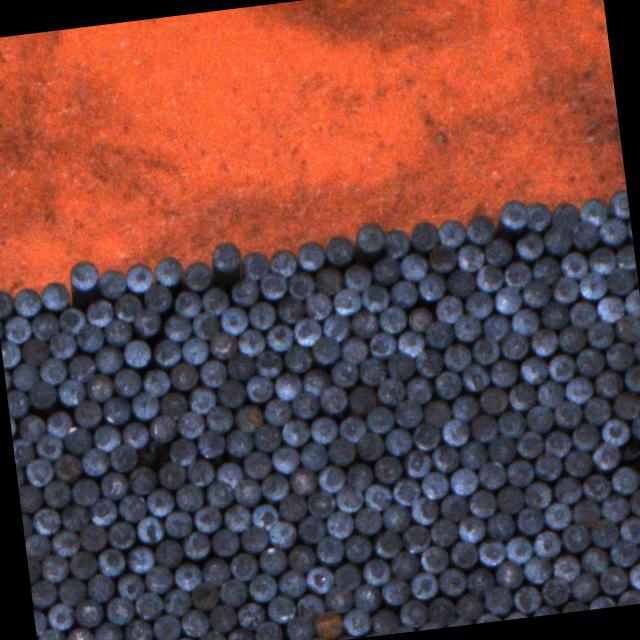tool: (463, 212, 496, 245), (541, 222, 573, 255), (407, 218, 439, 251), (324, 233, 356, 266), (498, 197, 530, 230), (210, 240, 242, 273), (238, 249, 271, 281), (548, 199, 580, 232), (12, 284, 44, 316), (152, 254, 184, 286), (68, 258, 100, 290), (40, 280, 72, 312), (530, 252, 562, 284), (512, 228, 544, 260), (354, 220, 386, 252), (96, 266, 127, 298), (568, 570, 600, 601), (189, 578, 220, 610), (492, 284, 524, 315), (183, 260, 214, 292), (428, 242, 459, 274), (113, 290, 144, 322), (548, 553, 580, 584), (436, 215, 466, 248), (603, 266, 634, 297), (317, 383, 348, 414), (392, 397, 423, 428), (587, 516, 618, 547), (27, 378, 58, 409), (505, 380, 536, 411), (455, 242, 486, 273), (486, 432, 517, 463), (585, 243, 616, 274), (579, 395, 610, 426), (296, 238, 326, 270), (341, 262, 371, 294), (124, 260, 154, 292), (188, 308, 220, 338), (598, 564, 630, 594), (152, 538, 182, 570), (388, 548, 418, 580), (609, 464, 639, 496), (502, 258, 534, 288), (508, 306, 540, 336), (438, 566, 468, 598), (577, 268, 607, 300), (444, 268, 476, 298), (380, 226, 410, 258), (434, 292, 464, 324), (130, 306, 162, 336), (101, 316, 131, 348), (537, 300, 569, 330), (230, 276, 260, 308), (127, 465, 157, 496), (308, 414, 339, 444), (108, 440, 138, 471), (292, 315, 322, 346), (331, 284, 362, 314), (315, 533, 345, 564), (354, 431, 384, 462), (172, 559, 202, 590), (400, 448, 430, 479), (558, 521, 588, 552), (78, 447, 108, 478), (34, 430, 64, 461), (52, 452, 82, 483), (310, 333, 340, 364), (400, 523, 430, 554), (70, 475, 100, 506), (76, 521, 106, 552), (500, 328, 530, 359), (602, 340, 633, 370), (379, 502, 409, 533), (208, 329, 238, 360), (570, 422, 601, 452), (525, 403, 555, 434), (422, 318, 452, 349), (156, 460, 187, 490), (348, 308, 378, 339), (311, 608, 342, 638), (58, 501, 88, 532), (111, 367, 141, 398), (40, 479, 71, 509), (398, 252, 429, 282), (399, 597, 429, 628), (74, 322, 104, 353), (65, 352, 96, 382), (93, 344, 123, 375), (427, 594, 457, 625), (115, 492, 146, 522), (593, 370, 624, 400), (242, 448, 272, 479), (356, 354, 386, 385), (574, 345, 604, 376), (459, 361, 489, 392), (520, 277, 550, 308), (281, 342, 312, 372), (578, 196, 608, 227), (245, 300, 275, 331), (511, 582, 542, 612), (130, 390, 160, 421), (198, 555, 228, 586), (486, 512, 517, 542), (478, 384, 508, 415), (84, 371, 114, 402), (18, 412, 48, 443), (518, 353, 548, 384), (384, 350, 414, 381), (414, 345, 444, 376), (580, 471, 610, 502), (570, 496, 601, 526), (346, 383, 376, 414), (370, 255, 400, 286), (122, 337, 152, 367), (382, 426, 412, 456), (181, 530, 211, 560), (256, 544, 286, 574), (248, 572, 278, 602), (72, 399, 102, 429), (590, 440, 620, 470), (146, 486, 176, 516), (377, 303, 407, 333), (36, 356, 66, 386), (217, 304, 247, 334), (446, 466, 476, 496), (162, 508, 192, 538), (47, 329, 77, 359), (466, 488, 496, 518), (178, 606, 208, 636), (270, 444, 300, 474), (338, 334, 368, 364), (228, 550, 258, 580), (495, 558, 525, 588), (484, 584, 514, 614), (298, 442, 328, 472), (408, 571, 438, 601), (428, 518, 458, 548), (456, 514, 486, 544), (428, 442, 458, 472), (324, 508, 354, 538), (304, 488, 334, 518), (526, 326, 556, 356), (495, 484, 525, 514), (168, 360, 198, 390), (417, 270, 447, 300), (419, 544, 449, 574), (100, 395, 130, 425), (266, 594, 296, 624), (532, 528, 562, 558), (362, 482, 392, 512), (473, 262, 503, 292), (358, 282, 388, 312), (141, 563, 171, 593), (143, 282, 173, 312), (556, 322, 586, 352), (303, 564, 333, 594), (206, 602, 236, 632), (277, 569, 307, 599), (175, 480, 205, 510), (482, 238, 512, 268), (196, 428, 226, 458), (84, 298, 114, 328), (50, 528, 80, 558), (326, 438, 356, 468), (160, 587, 190, 617), (534, 379, 564, 409), (316, 464, 346, 494), (106, 520, 136, 550), (264, 322, 294, 352), (69, 548, 99, 578), (278, 490, 308, 520), (3, 314, 33, 344), (542, 498, 572, 528), (352, 582, 382, 612), (412, 422, 442, 452), (442, 342, 472, 372), (522, 555, 552, 585), (174, 408, 204, 438), (8, 362, 38, 392), (496, 408, 526, 438), (92, 422, 122, 452), (437, 492, 467, 522), (28, 311, 58, 341), (467, 412, 497, 442), (288, 390, 318, 420), (286, 542, 316, 572), (272, 372, 302, 402), (563, 375, 593, 405), (532, 451, 562, 481), (56, 306, 86, 336), (464, 288, 494, 318), (361, 556, 391, 586), (32, 506, 62, 536), (266, 520, 296, 550), (362, 403, 392, 433), (20, 336, 50, 366), (558, 248, 588, 278), (238, 524, 268, 554), (598, 492, 628, 522), (523, 480, 553, 510), (504, 456, 534, 486), (274, 292, 304, 322), (62, 424, 92, 454), (314, 264, 344, 294), (215, 377, 245, 407), (550, 398, 580, 428), (372, 529, 402, 559), (24, 456, 54, 486), (452, 313, 482, 343), (388, 279, 418, 309), (549, 274, 579, 304), (550, 474, 580, 504), (210, 526, 240, 556), (457, 438, 487, 468), (456, 590, 486, 620), (562, 447, 592, 477), (390, 477, 420, 507), (296, 514, 326, 544), (301, 366, 331, 396), (408, 496, 438, 526), (168, 437, 198, 467), (594, 294, 624, 324), (504, 534, 534, 564), (466, 565, 496, 595), (43, 409, 73, 439), (354, 506, 384, 536), (226, 350, 256, 380), (568, 299, 598, 329), (578, 546, 608, 576), (198, 358, 228, 388), (286, 270, 316, 300), (596, 215, 626, 245), (487, 356, 517, 386), (186, 456, 216, 486), (541, 426, 571, 456), (324, 584, 354, 614), (584, 318, 614, 348), (56, 576, 86, 606), (469, 334, 499, 364), (513, 506, 543, 536), (140, 366, 170, 396), (259, 472, 289, 502), (186, 384, 216, 414), (600, 416, 630, 446), (374, 374, 404, 404), (396, 328, 426, 358), (609, 536, 639, 566), (540, 575, 570, 605), (232, 402, 262, 432), (525, 200, 553, 232), (419, 469, 448, 499), (106, 594, 135, 624), (259, 271, 289, 300), (200, 286, 229, 316), (334, 484, 363, 514), (217, 576, 246, 606), (280, 416, 309, 446), (342, 532, 371, 562), (232, 475, 261, 505), (74, 596, 103, 626), (475, 460, 504, 490), (251, 422, 280, 452), (342, 606, 371, 636), (204, 404, 233, 434), (371, 453, 400, 483), (368, 330, 397, 360), (125, 544, 154, 574), (192, 503, 222, 532), (87, 495, 116, 525), (41, 552, 70, 582), (236, 600, 265, 630), (254, 348, 284, 377), (433, 368, 462, 398), (330, 356, 359, 386), (547, 351, 576, 381), (120, 419, 150, 448), (480, 313, 510, 342), (320, 312, 349, 342), (422, 399, 452, 428), (214, 460, 243, 490), (159, 389, 189, 418), (268, 247, 296, 278), (98, 471, 126, 502), (572, 218, 600, 249), (147, 412, 176, 441), (441, 418, 470, 447), (332, 561, 361, 590), (380, 577, 409, 606), (223, 504, 252, 533), (236, 327, 265, 356), (449, 539, 478, 568), (337, 413, 366, 442), (206, 479, 235, 508), (223, 428, 252, 457), (369, 607, 398, 636), (151, 612, 181, 640), (46, 600, 74, 630), (98, 546, 126, 576), (264, 397, 292, 427), (154, 336, 182, 366), (134, 514, 162, 544), (612, 390, 640, 420), (86, 573, 114, 603), (164, 312, 192, 342), (294, 592, 324, 620), (58, 377, 86, 406), (133, 590, 162, 618), (304, 290, 332, 319), (288, 467, 316, 496), (172, 289, 200, 318), (476, 537, 505, 565), (244, 374, 272, 403), (516, 429, 544, 458), (345, 462, 373, 491), (406, 376, 434, 405), (115, 572, 144, 600), (29, 576, 56, 606), (614, 312, 640, 343), (180, 336, 208, 364), (450, 394, 478, 422), (406, 306, 434, 334), (250, 502, 278, 530), (284, 614, 313, 640), (616, 513, 640, 544), (18, 483, 43, 512), (24, 532, 49, 560), (123, 616, 152, 640), (12, 435, 35, 465), (608, 188, 630, 219), (6, 388, 29, 417), (92, 620, 123, 640), (252, 620, 282, 640), (614, 242, 636, 268), (0, 339, 20, 367), (622, 363, 640, 393), (622, 287, 640, 317), (615, 588, 640, 606), (27, 552, 42, 582), (587, 594, 615, 610), (558, 598, 587, 613), (626, 486, 640, 517), (0, 288, 14, 319), (64, 625, 92, 640), (626, 560, 640, 590), (226, 626, 255, 640), (33, 606, 46, 634), (36, 628, 65, 640), (529, 604, 558, 616), (443, 615, 472, 627), (474, 612, 502, 624), (196, 629, 226, 640), (629, 410, 640, 440), (21, 509, 32, 538), (500, 609, 528, 620), (386, 623, 414, 634), (631, 337, 640, 366), (417, 620, 442, 630), (9, 412, 17, 440), (3, 364, 11, 392), (16, 462, 24, 490), (624, 214, 632, 242), (169, 635, 197, 640), (302, 635, 330, 640), (0, 315, 5, 343)
tool_b: (135, 438, 168, 469)
